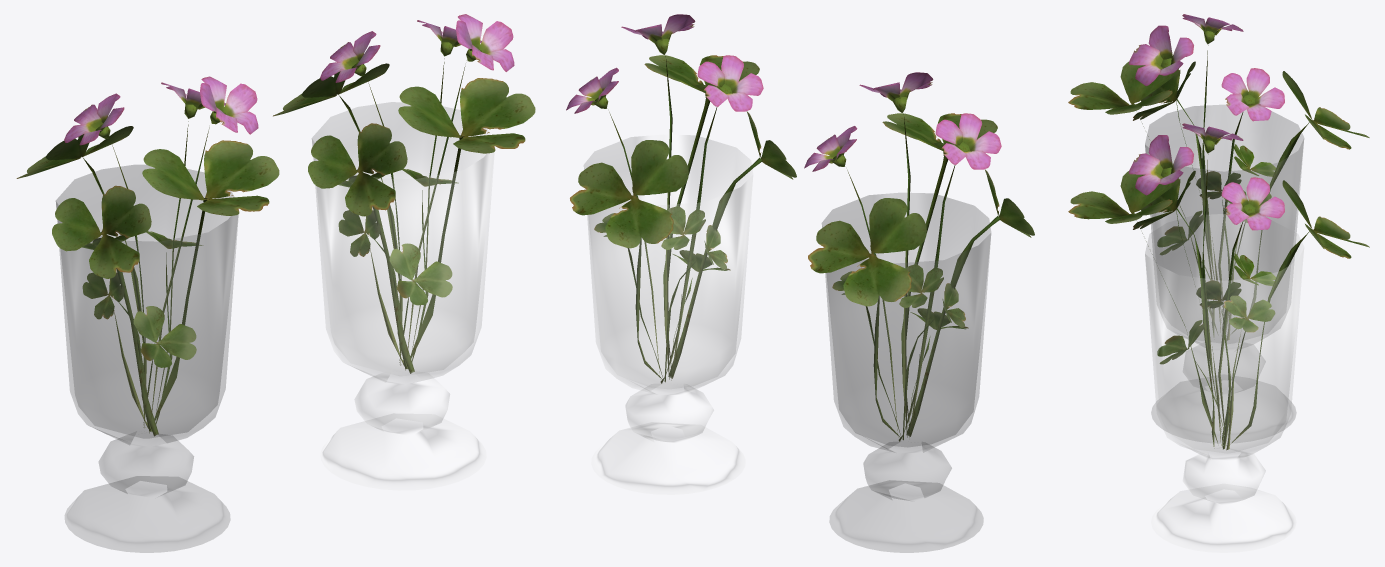
File: GlassVaseFlowers.lod1.glb
3 renders of one model, left to right at view 1: azimuth 30°, elevation 25°; view 2: azimuth 150°, elevation 25°; view 3: azimuth 270°, elevation 25°, orthographic. The views are drawn at different scales.
Visible parts, largest first — view 1: GlassAlpha, GlassTransmission, Flowers2, Flowers1; view 2: GlassAlpha, GlassTransmission, Flowers2, Flowers1; view 3: GlassTransmission, GlassAlpha, Flowers2, Flowers1.
Part boxes in pixels (box(x1,y1,x2,y2)): GlassAlpha: box(56, 165, 238, 552); GlassTransmission: box(312, 102, 494, 490); Flowers2: box(273, 14, 535, 373); Flowers1: box(16, 76, 279, 436); GlassAlpha: box(822, 193, 991, 552); GlassTransmission: box(584, 135, 752, 494); Flowers2: box(566, 14, 796, 383); Flowers1: box(804, 72, 1034, 441); GlassTransmission: box(1145, 214, 1303, 552); GlassAlpha: box(1145, 105, 1304, 442); Flowers2: box(1068, 123, 1369, 450); Flowers1: box(1068, 14, 1369, 340).
Size of the model in its own units: 0.2173 by 0.2032 by 0.1425.
Materials: 3 (1 with a texture image).
